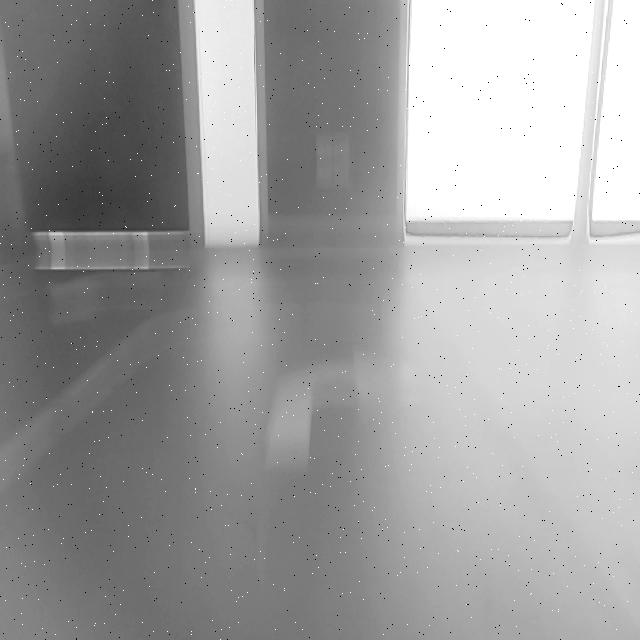left_lane: (0, 321, 152, 490)
